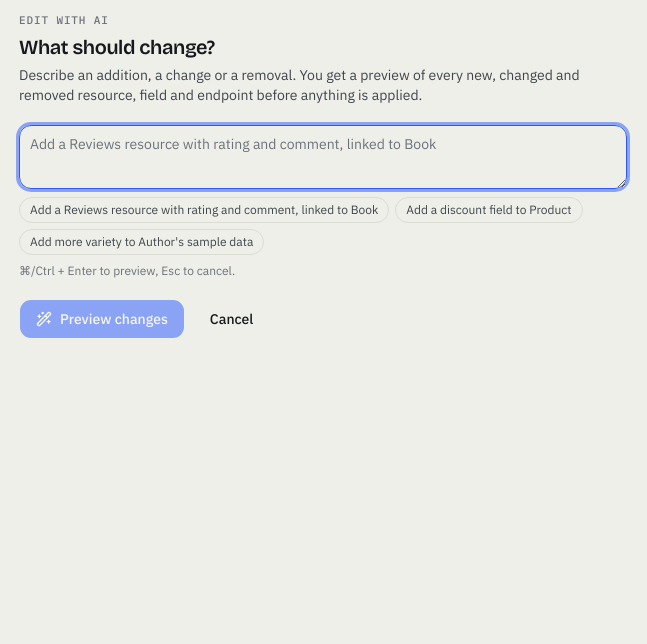
it: I5: discloses inbound links from other resources when a resource's records are replaced
Type "Change Book's sample data" into the text box named "Describe what should change". click: coordinates (323, 156)
box: [19,124,627,188]
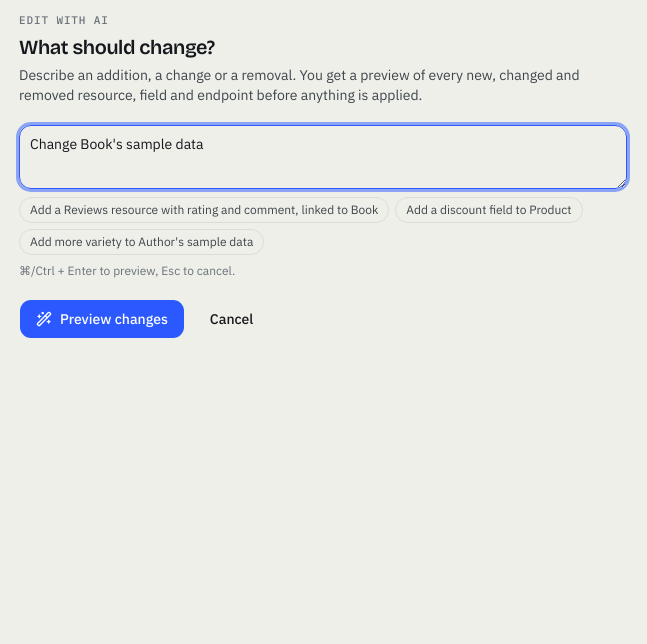
Click the button "Preview changes". click: coordinates (102, 318)
box: [19,298,185,338]
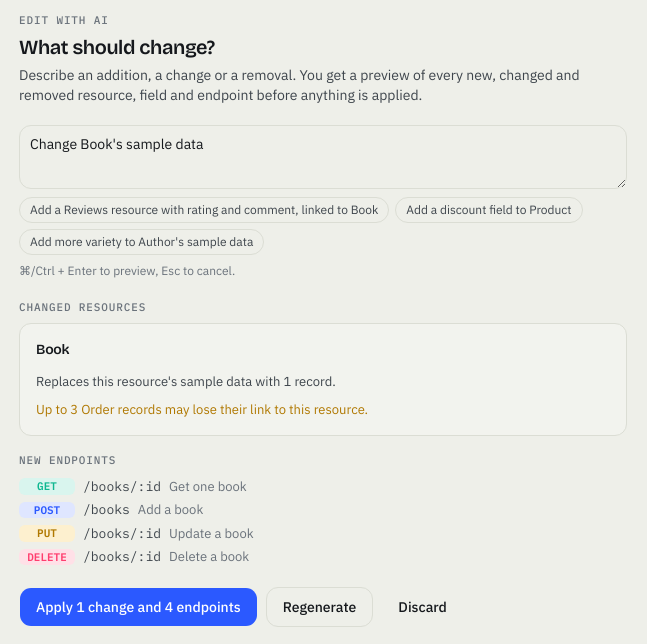
Now the text "Up to 3 Order records may lose their link to this resource." is shown, box [36,400,368,418]
